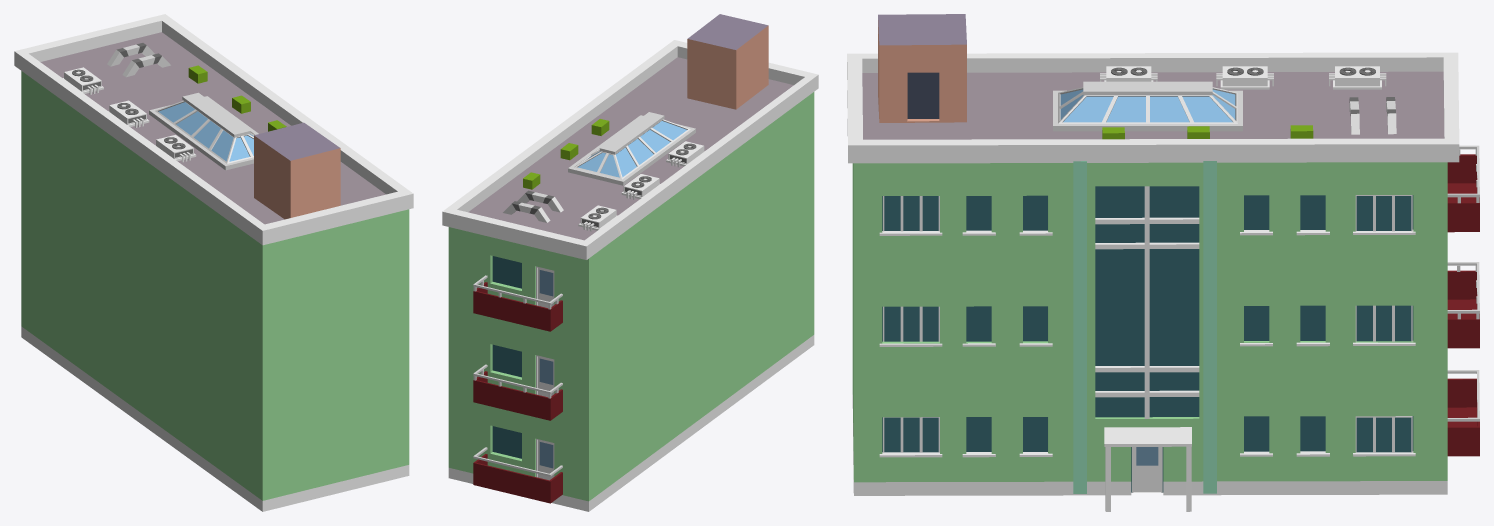
File: Building_21_tran.glb
3 views of the same model, side by side, from view 1: azimuth 30°, elevation 25°; view 2: azimuth 150°, elevation 25°; view 3: azimuth 270°, elevation 25° (orthographic). The views are drawn at different scales.
Parts seen in each view (by area): view 1: Cube.11421, Cube.11423, Cube.11456, Ventilation_1.002, Cube.13674, Air conditioning.003, Cube.13675, Cube.13676, Cube.11454, Cube.11455; view 2: Cube.11421, Cube.11423, Cube.11456, Ventilation_1.002, Cube.11426, Cube.11429, Cube.11430, Air conditioning.003, Door_9.002, Door_9.001, Door_9.003, Cube.13674 (+4 smaller); view 3: Cube.11421, Cube.11423, Cube.11456, Ventilation_1.002, Cube.11433, Cube.11434, Cube.11426, Cube.11429, Cube.11430, Cube.11422, Cube.13669, Cube.13670 (+9 smaller).
Part boxes in pixels (box(x1,y1,x2,y2)): Cube.11421: box(21, 32, 409, 511); Cube.11423: box(14, 14, 413, 245); Cube.11456: box(254, 122, 340, 219); Ventilation_1.002: box(149, 92, 258, 170); Cube.13674: box(63, 67, 103, 94); Air conditioning.003: box(188, 65, 286, 131); Cube.13675: box(108, 100, 149, 127); Cube.13676: box(156, 135, 196, 162); Cube.11454: box(122, 53, 170, 77); Cube.11455: box(107, 43, 154, 66); Cube.11421: box(448, 57, 814, 511); Cube.11423: box(442, 40, 818, 259); Cube.11456: box(687, 14, 768, 109); Ventilation_1.002: box(568, 112, 695, 185); Cube.11426: box(473, 447, 562, 503); Cube.11429: box(473, 364, 562, 420); Cube.11430: box(473, 275, 562, 331); Air conditioning.003: box(523, 119, 609, 189); Door_9.002: box(536, 355, 554, 397); Door_9.001: box(536, 438, 554, 480); Door_9.003: box(536, 266, 554, 307); Cube.13674: box(578, 205, 617, 231); Cube.11421: box(852, 71, 1447, 495); Cube.11423: box(847, 52, 1459, 163); Cube.11456: box(878, 14, 966, 122); Ventilation_1.002: box(1053, 81, 1242, 131); Cube.11433: box(1073, 161, 1086, 493); Cube.11434: box(1203, 161, 1216, 493); Cube.11426: box(1447, 370, 1479, 456); Cube.11429: box(1447, 262, 1479, 348); Cube.11430: box(1447, 145, 1479, 232); Cube.11422: box(1104, 427, 1191, 511); Cube.13669: box(1355, 416, 1412, 452); Cube.13670: box(1355, 305, 1412, 341).
Bounding box in the file's own units: 0.297 × 0.5324 × 0.7356.
